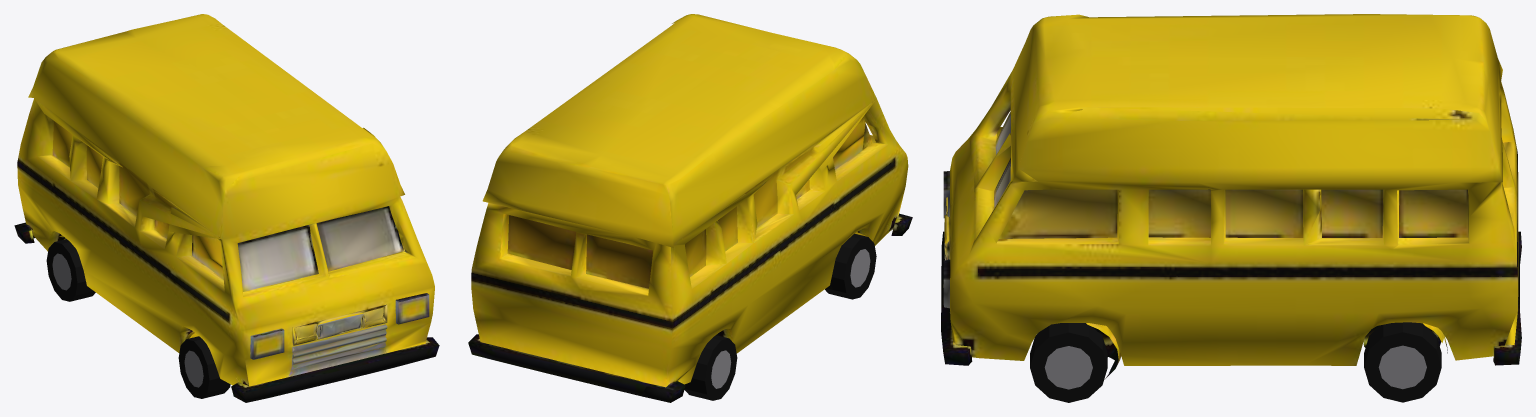
File: danfo.glb
3 views of the same model, side by side, from view 1: azimuth 30°, elevation 25°; view 2: azimuth 150°, elevation 25°; view 3: azimuth 270°, elevation 25° (orthographic). The views are drawn at different scales.
Visible parts, largest first — view 1: danfo, wheel_fr, wheel_rr; view 2: danfo, wheel_fr, wheel_rr; view 3: danfo, wheel_rl, wheel_fl.
Boxes of the visible parts, <box> form: danfo: <box>14,14,439,402</box>; wheel_fr: <box>178,336,230,398</box>; wheel_rr: <box>46,239,95,301</box>; danfo: <box>468,14,912,402</box>; wheel_fr: <box>825,233,876,299</box>; wheel_rr: <box>684,335,737,400</box>; danfo: <box>941,14,1521,378</box>; wheel_rl: <box>1364,322,1441,402</box>; wheel_fl: <box>1030,323,1107,402</box>.
Bounding box in the file's own units: 2.49 × 2.67 × 4.94.
Materials: 1 (1 with a texture image).
